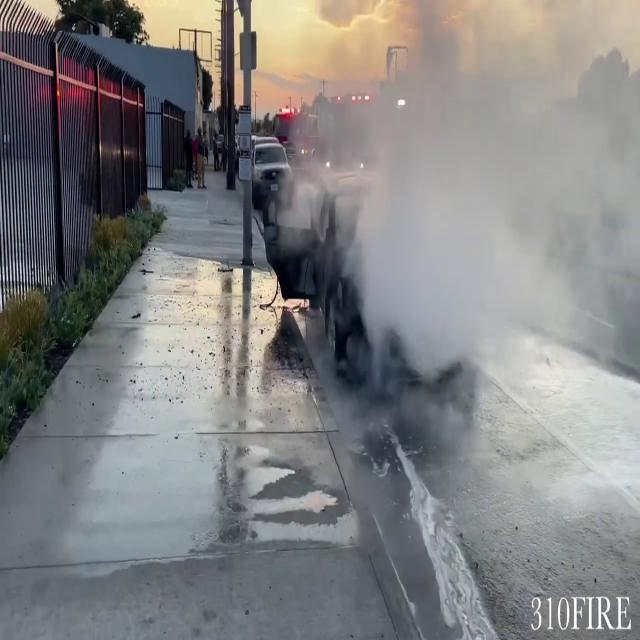Smoke: (286, 0, 640, 430)
